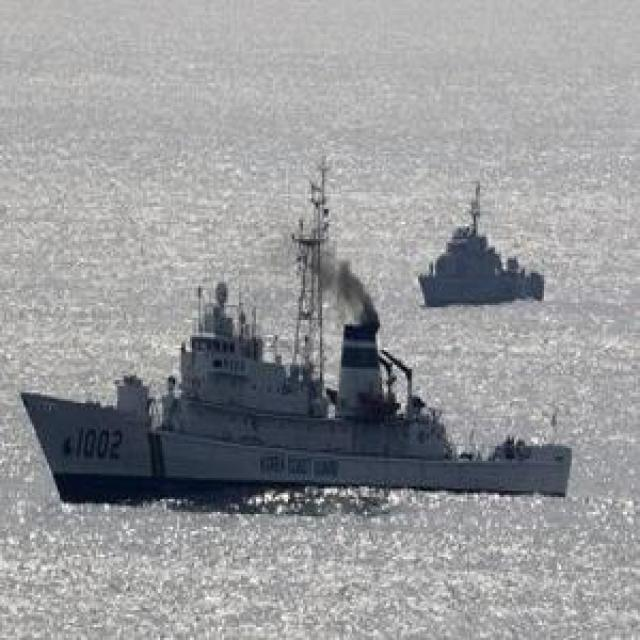navalvessels: (19, 263, 575, 503), (419, 212, 550, 302)
